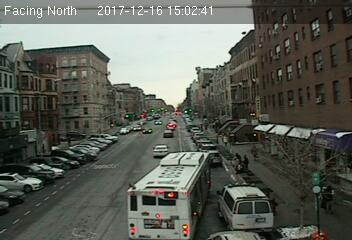bus: (126, 149, 215, 240)
car: (151, 143, 168, 159)
pedestrian: (321, 184, 337, 215), (243, 155, 251, 171)
police: (217, 181, 274, 233)
